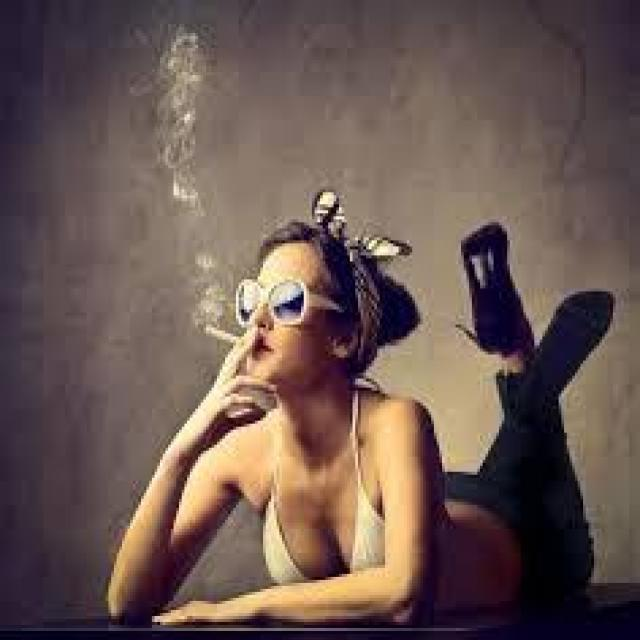cigarette: (192, 309, 255, 352)
